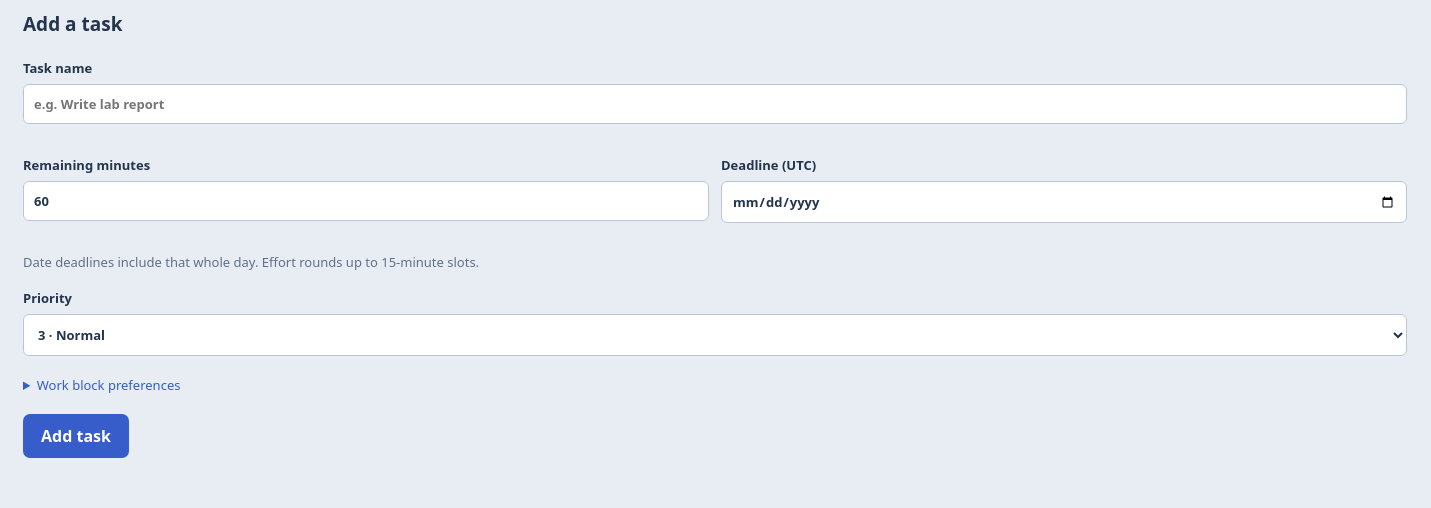
Test case: submits reviewed task fields with revision and CSRF to the API
The width and height of the screenshot is (1431, 508).
In the field labelled "Task name": x=715, y=104 x1=23 y1=84 x2=1407 y2=124, type "Write lab report"
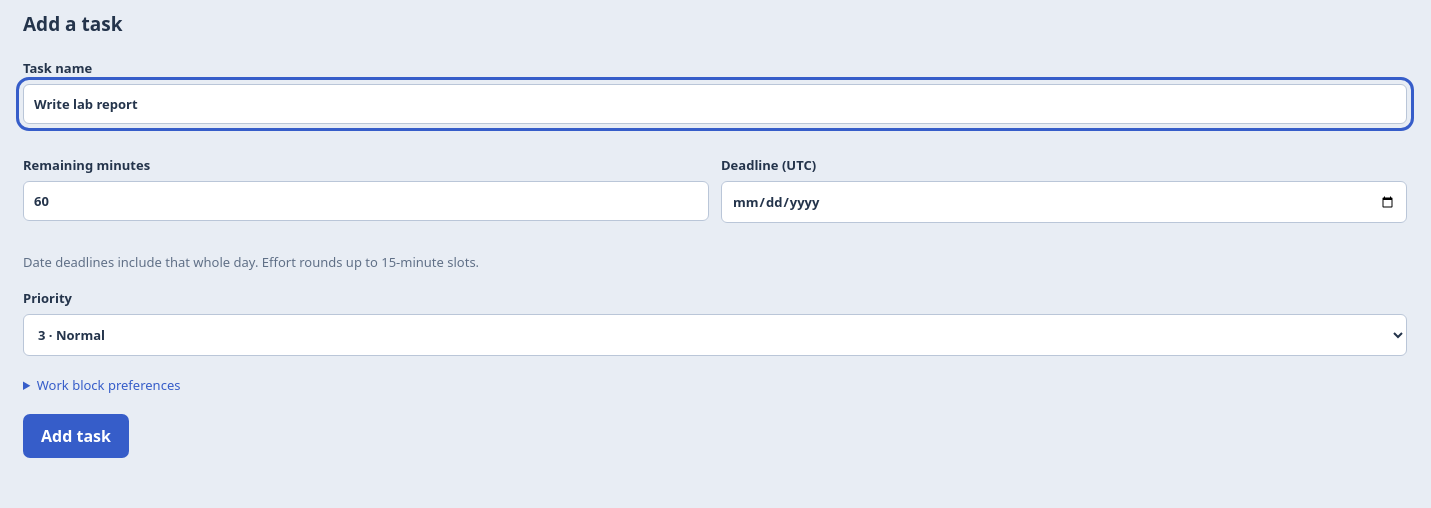
Replace the text in the number field labelled "Remaining minutes" with "90": x=366, y=201 x1=23 y1=181 x2=709 y2=221
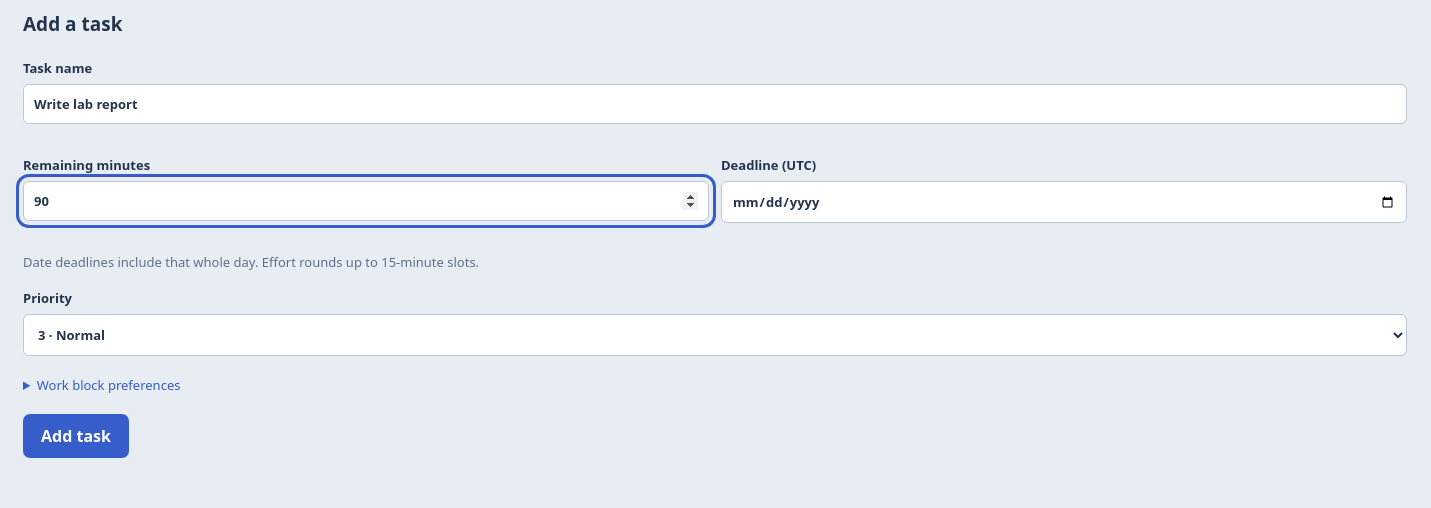
Click the button "Add task": x=76, y=436 x1=23 y1=414 x2=129 y2=458
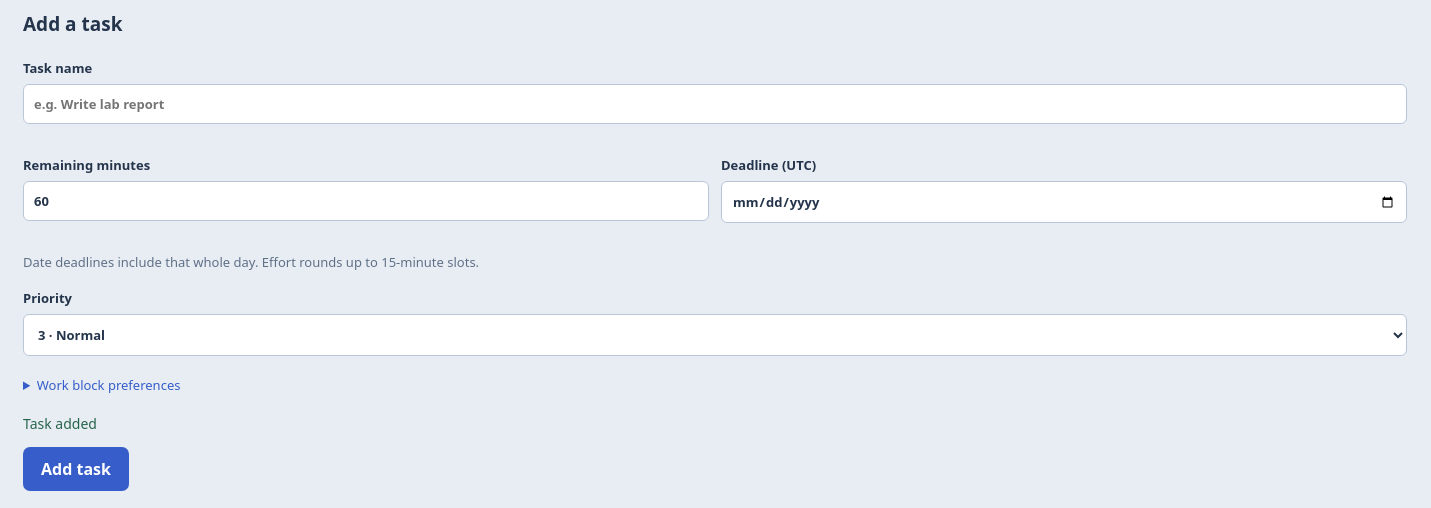
Now the message reads "Task added", box x1=23 y1=414 x2=97 y2=433
